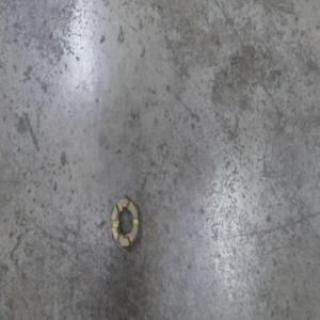Nuttrack_idkeyframe: (109, 192, 140, 251)
